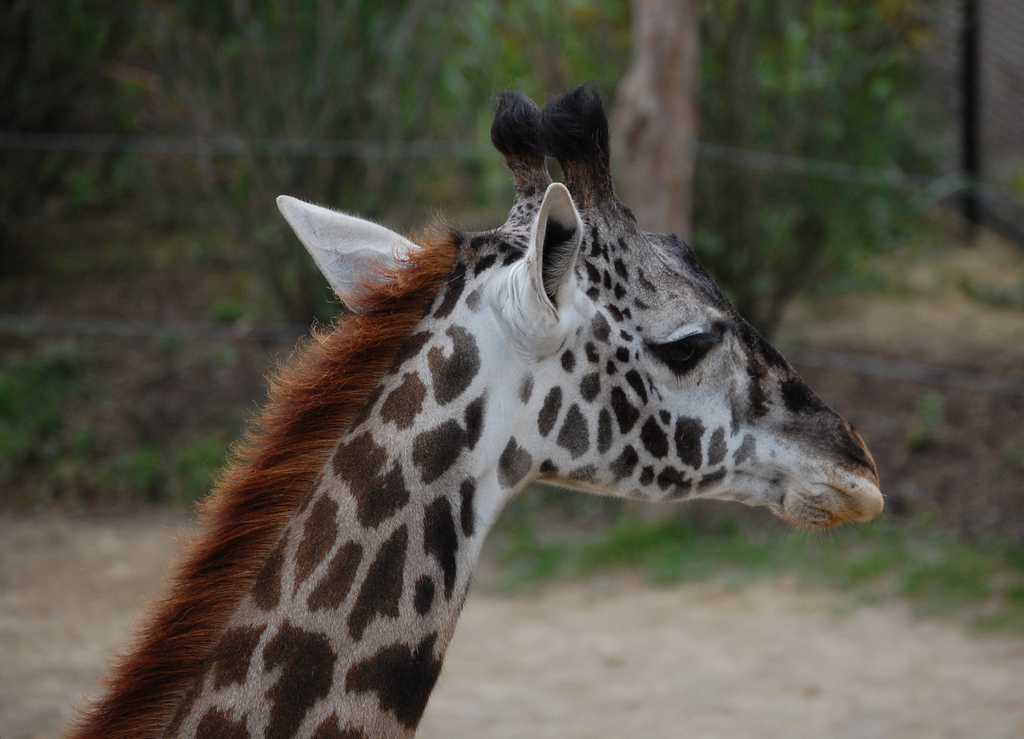giraffe: (164, 93, 925, 672)
